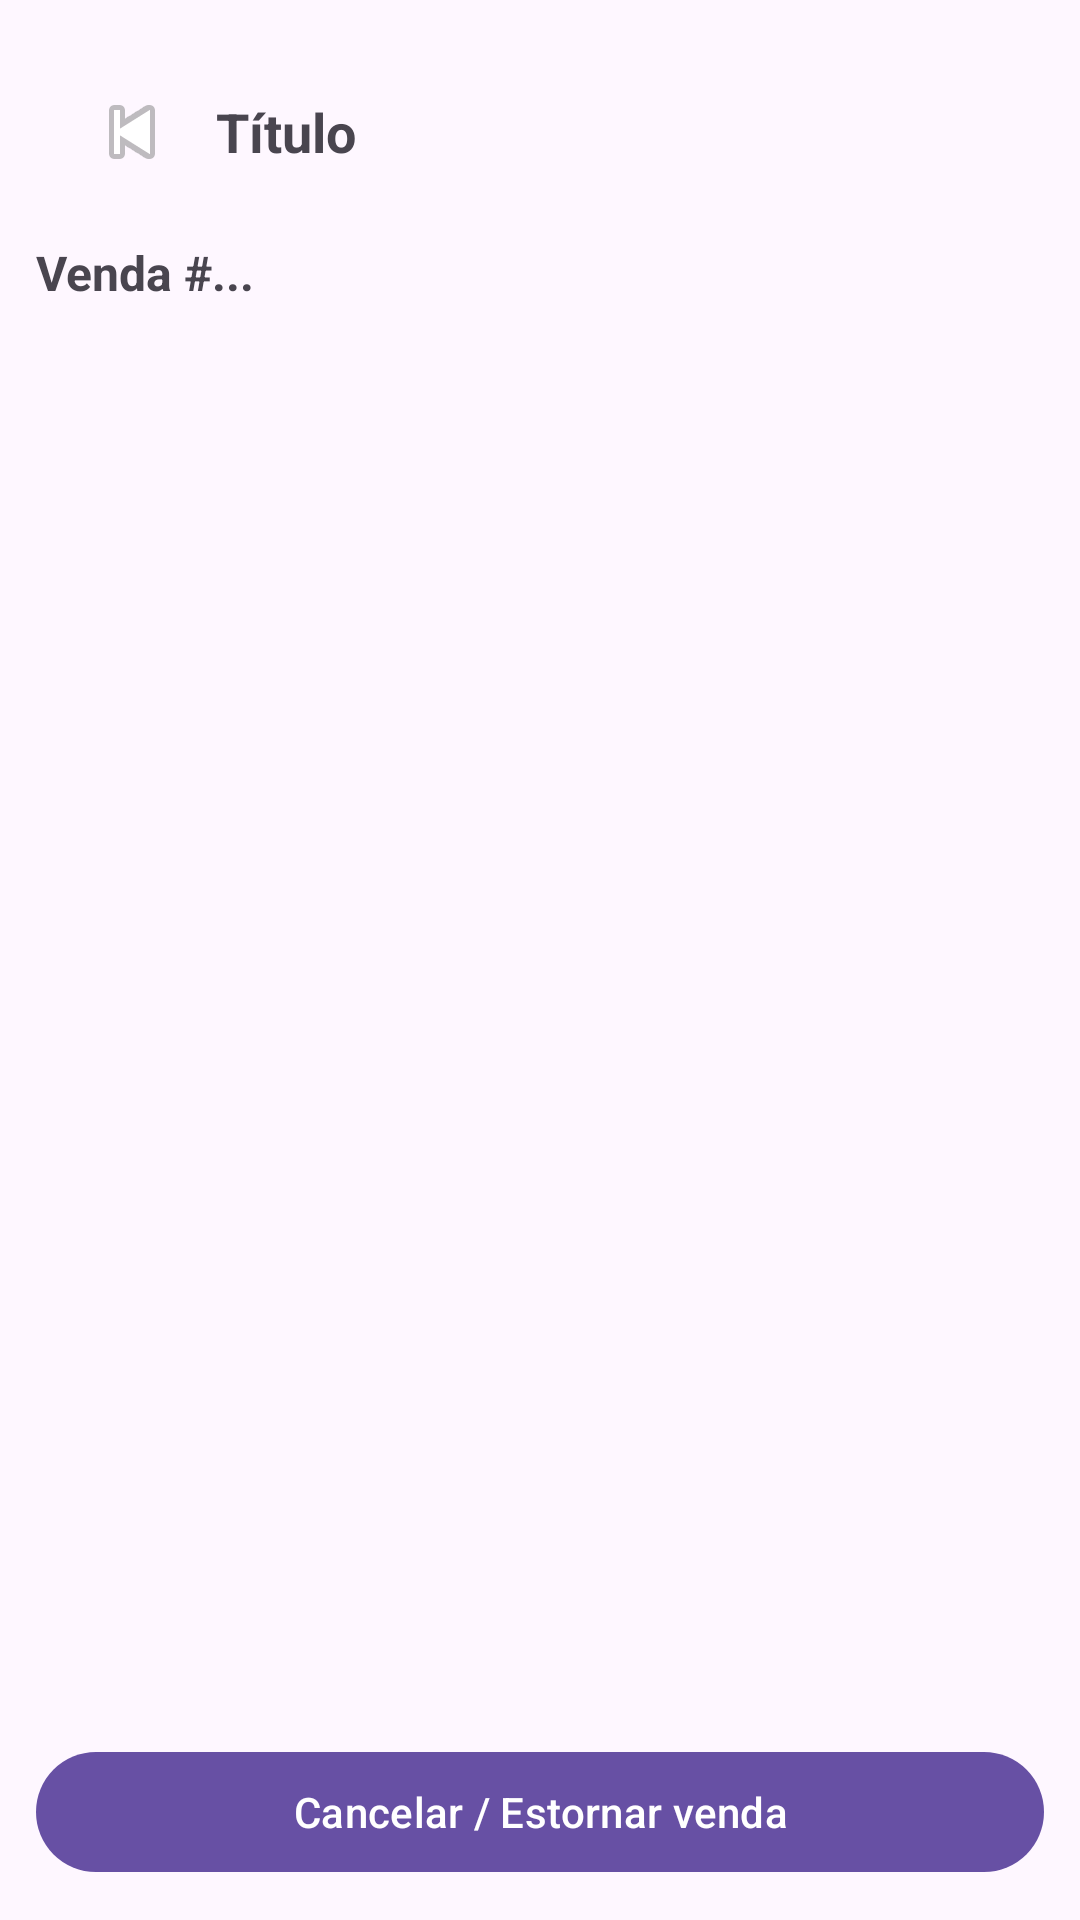

Icons on this 1080x1920 Android screen, each with its box as (x1, y1, x2, y2):
Voltar: (109, 105, 155, 159)
